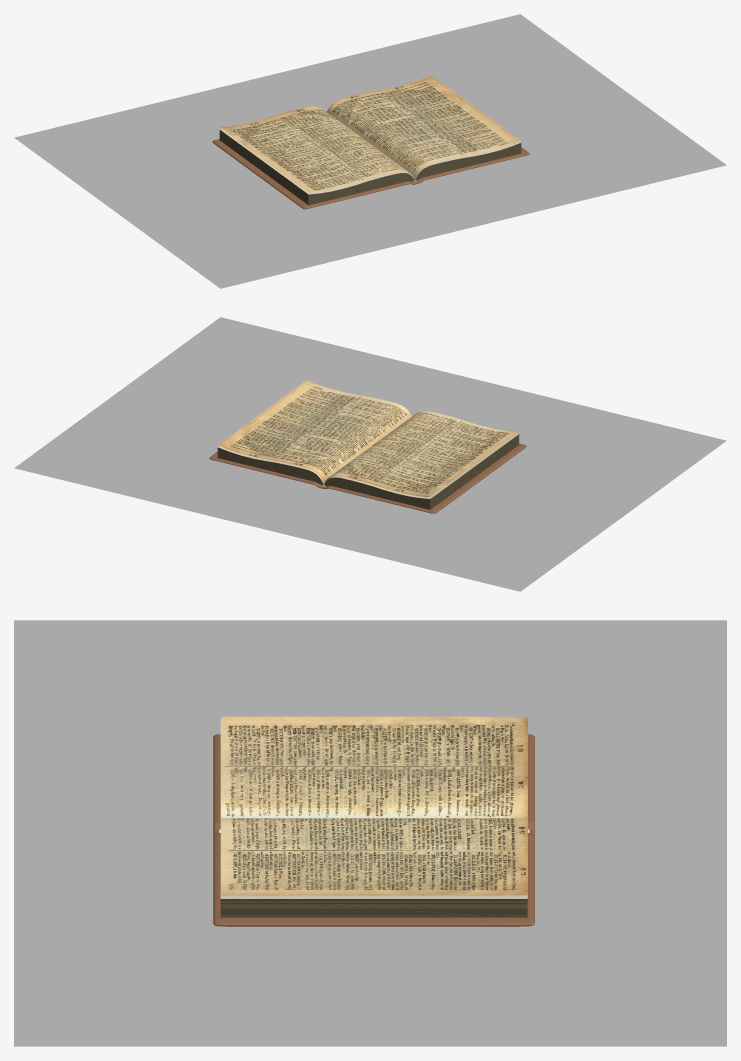
Rendered from BOOK FBX.fbx.
3 renders of one model, top to bottom at view 1: azimuth 30°, elevation 25°; view 2: azimuth 150°, elevation 25°; view 3: azimuth 270°, elevation 25°, orthographic. The views are drawn at different scales.
Visible parts, largest first — view 1: Background, page_top_right, page_top_left, Book_Cover_base, lower_left, lower_right, Side_left; view 2: Background, page_top_right, page_top_left, Book_Cover_base, lower_left, lower_right, Side_left; view 3: Background, page_top_left, page_top_right, Book_Cover_base, side_right, page_top_right_2, lower_right.
Part boxes in pixels (x1,y1,x2,y2): Background: [14, 14, 726, 288]; page_top_right: [327, 76, 520, 179]; page_top_left: [221, 106, 414, 192]; Book_Cover_base: [212, 139, 529, 209]; lower_left: [220, 129, 414, 205]; lower_right: [414, 142, 521, 180]; Side_left: [219, 130, 308, 204]; Background: [14, 317, 726, 591]; page_top_right: [219, 380, 411, 484]; page_top_left: [324, 411, 518, 497]; Book_Cover_base: [209, 443, 526, 513]; lower_left: [324, 434, 518, 509]; lower_right: [217, 446, 323, 484]; Side_left: [430, 434, 519, 509]; Background: [14, 620, 726, 1046]; page_top_left: [221, 716, 527, 818]; page_top_right: [221, 818, 527, 895]; Book_Cover_base: [213, 734, 534, 926]; side_right: [220, 899, 527, 917]; page_top_right_2: [221, 895, 527, 897]; lower_right: [220, 821, 527, 898].
Size of the model in its own units: 226 by 7.04 by 159.
8 materials, 5 textured.
